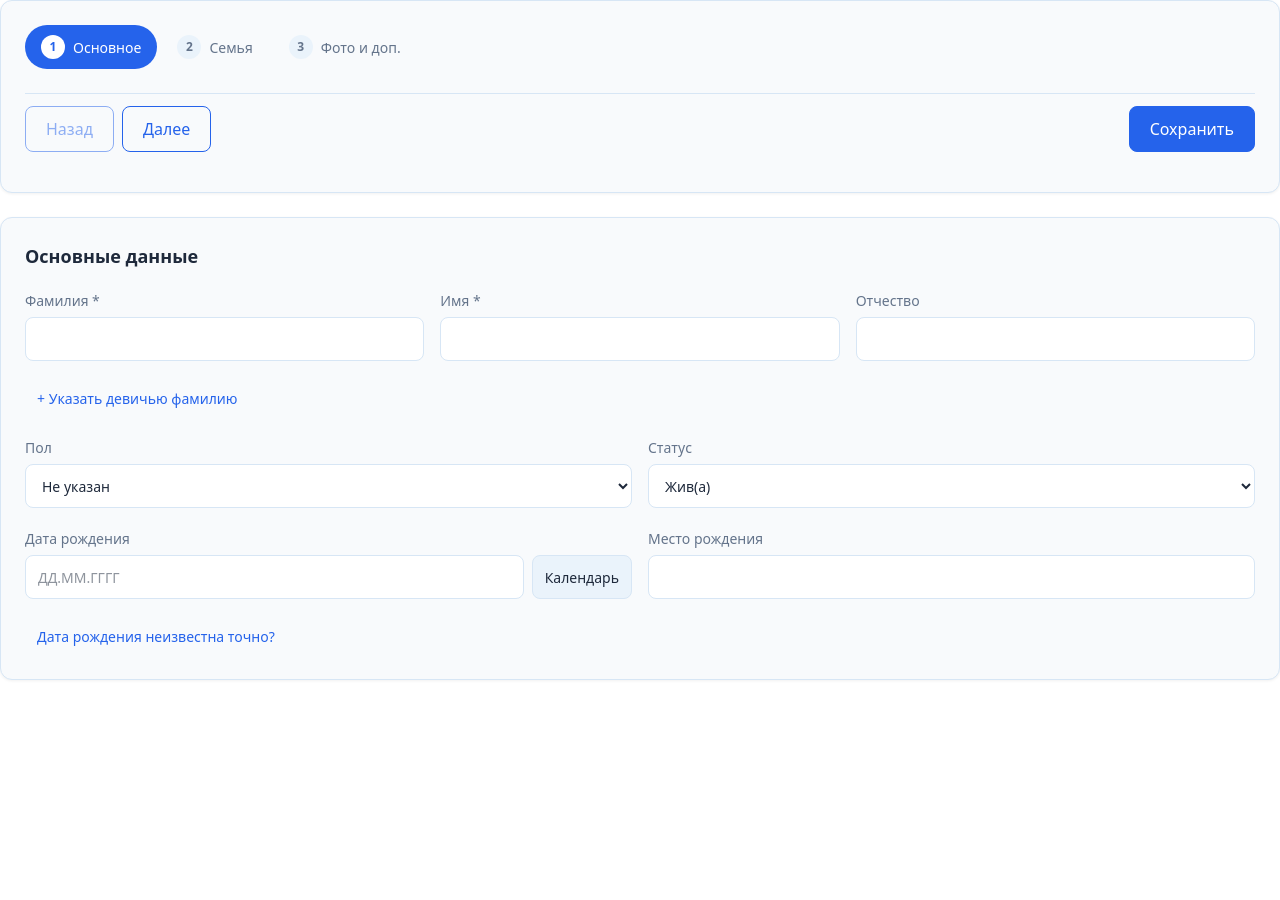
Test case: PersonForm - status-driven conditional fields › shows death/burial fields once status is switched to "deceased"
Select "Умер(ла)" in the dropdown labelled "Статус" at point(952, 486), box [648, 464, 1255, 508]
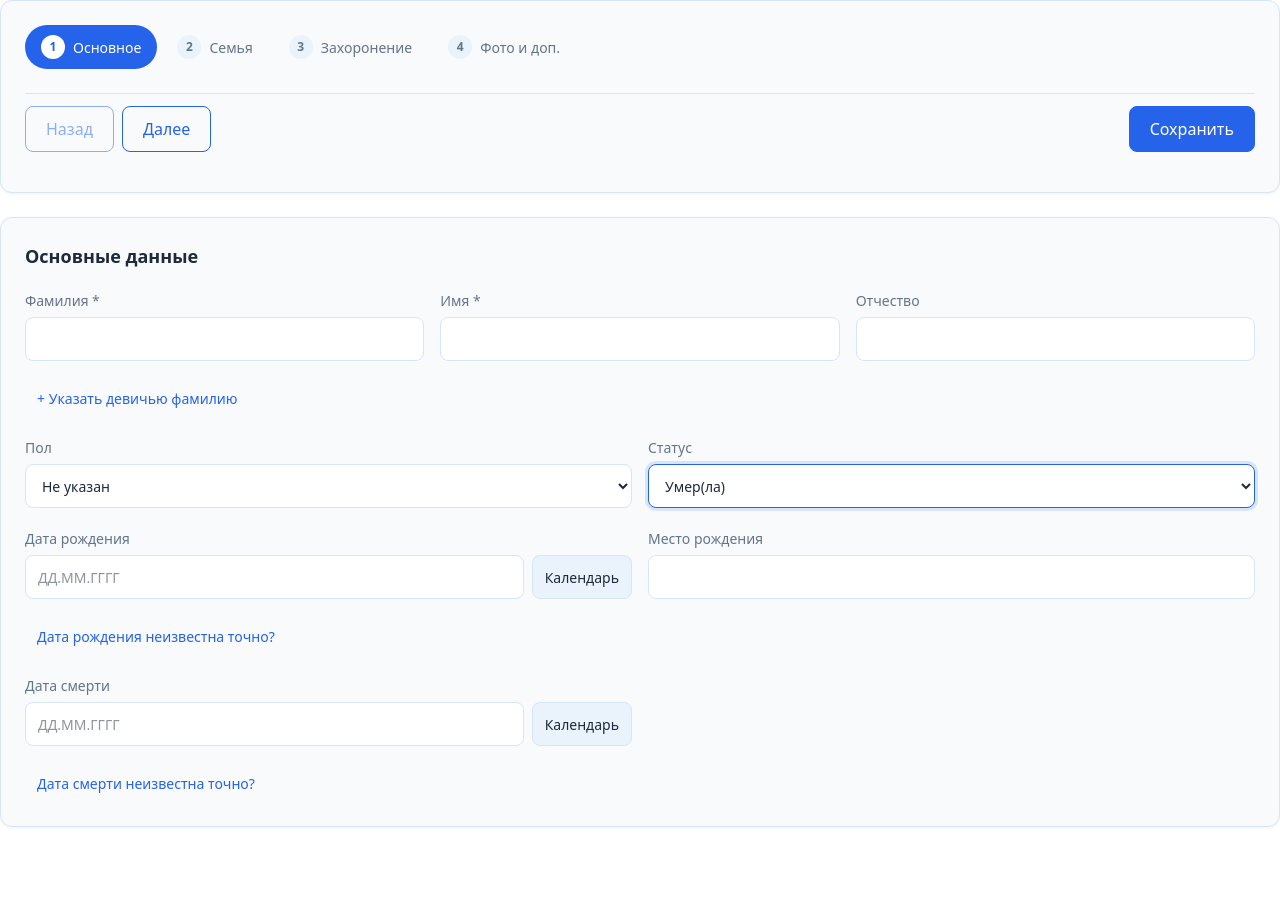
Expected: the field labelled "Дата смерти" is shown, [25, 702, 524, 746]
Expected: the button "3 Захоронение" is shown
Click the button "3 Захоронение" at point(350, 47), box [273, 25, 428, 69]
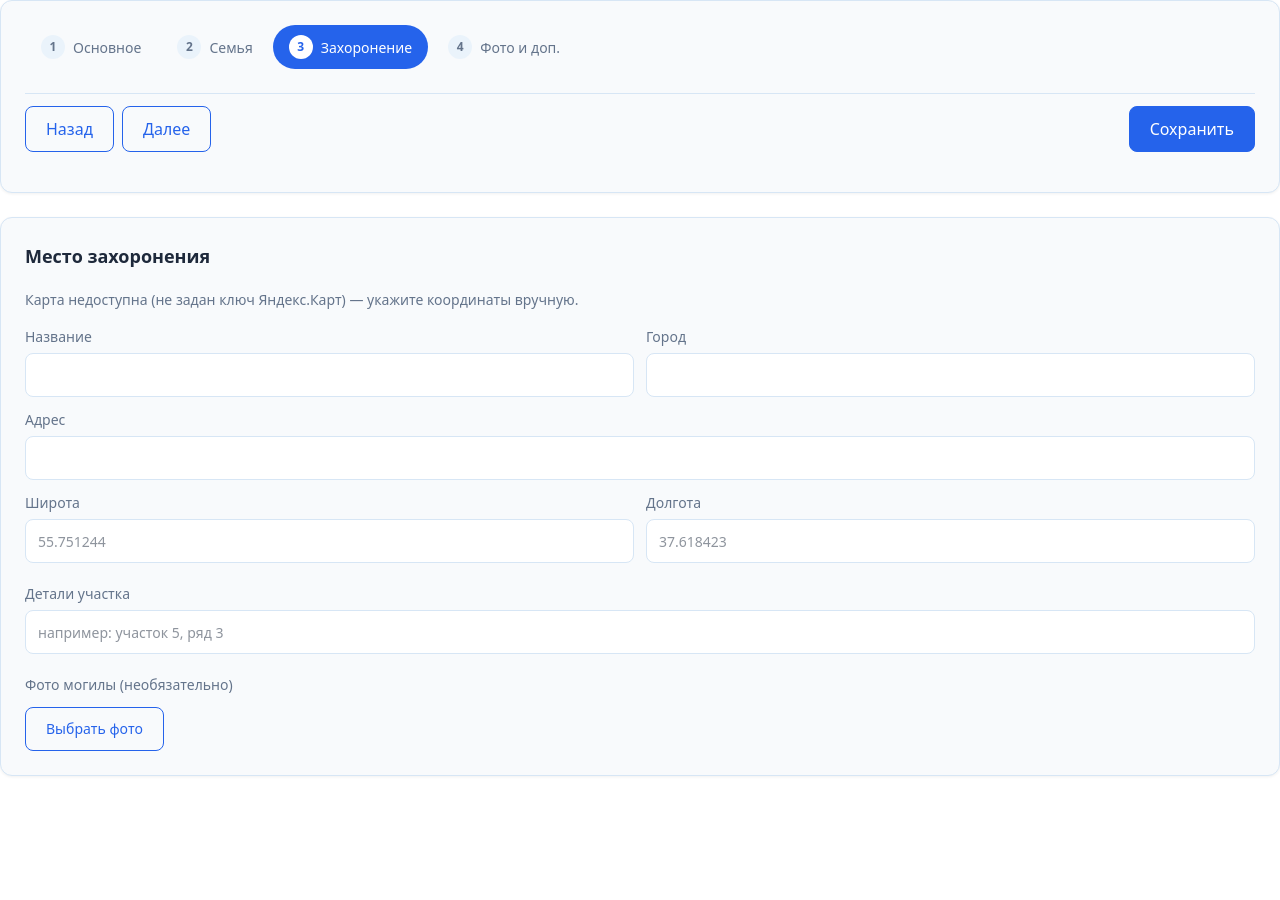
Expected: the field labelled "Детали участка" is shown, [25, 610, 1255, 654]
Expected: the heading "Место захоронения" is shown, [25, 244, 210, 268]
